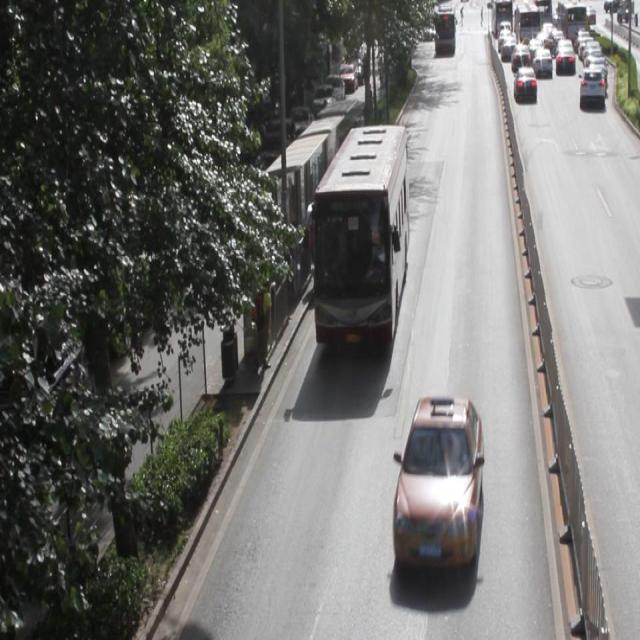car: (393, 394, 483, 572)
van: (314, 124, 408, 348)
